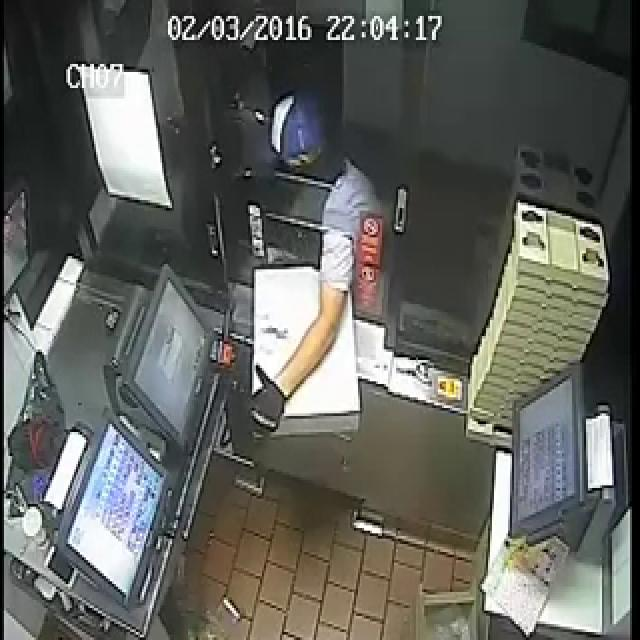burglary: (188, 25, 401, 568)
